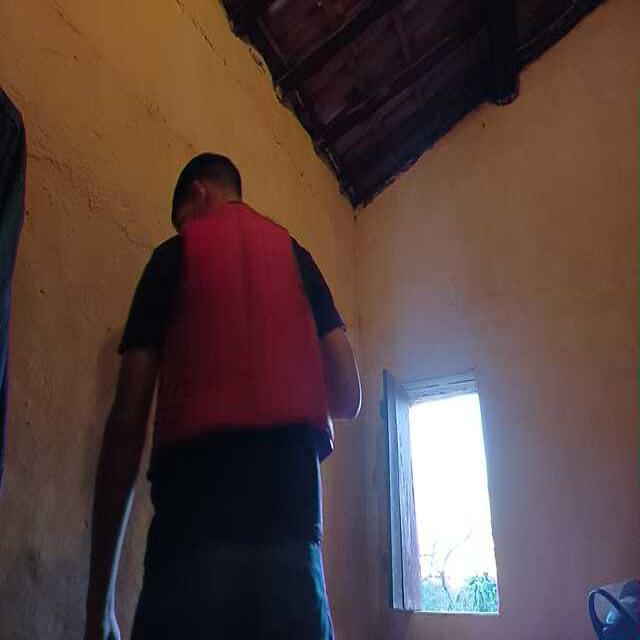colete: (148, 211, 337, 458)
pessoa: (88, 151, 362, 640)
